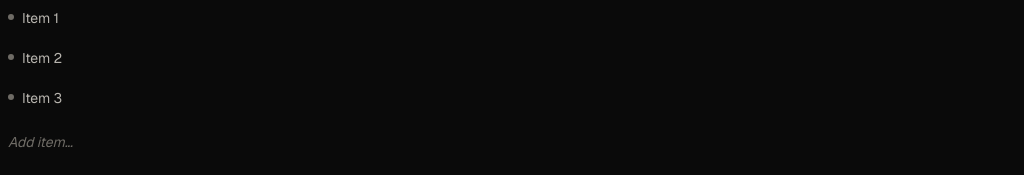
Test: EditableList › editing › enters edit mode when item is clicked
The width and height of the screenshot is (1024, 175).
Click the text "Item 1". click: coordinates (40, 18)
box: [22,9,59,27]
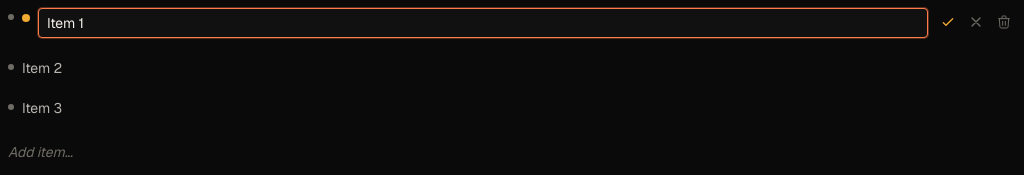
expect the field holds "Item 1": met, box [38,8,928,38]
